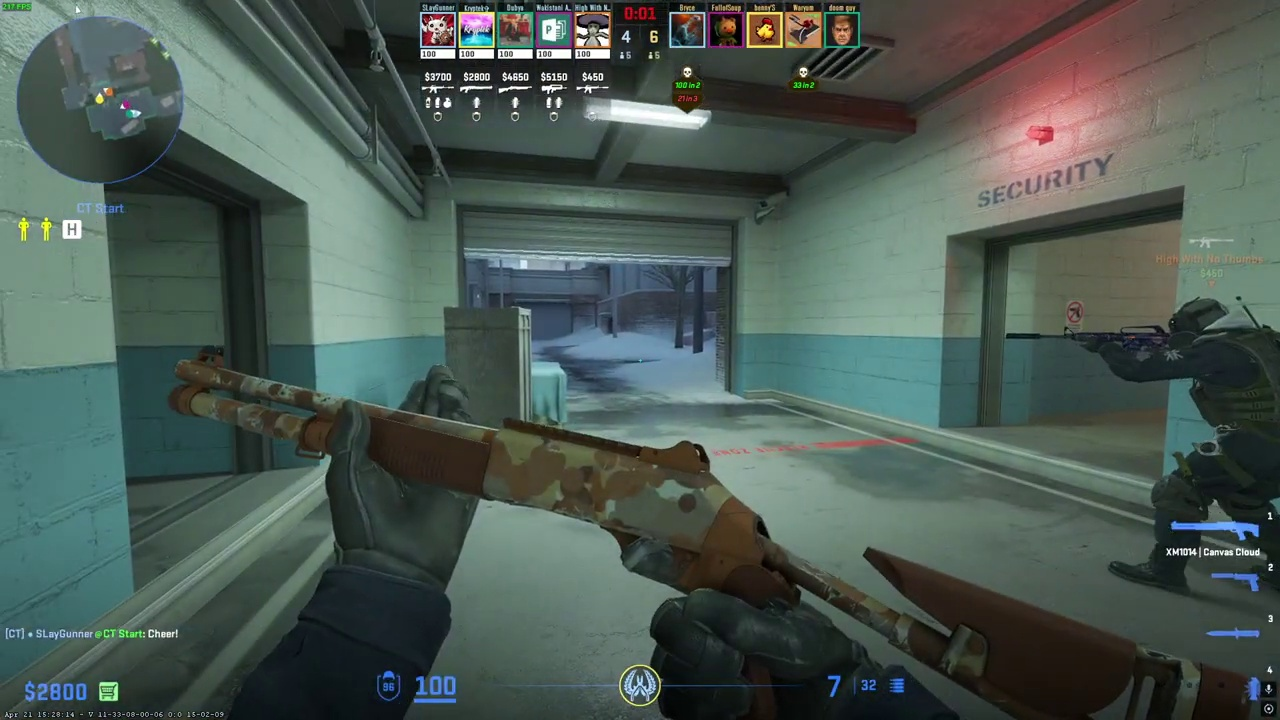CT: (1111, 296, 1280, 597)
